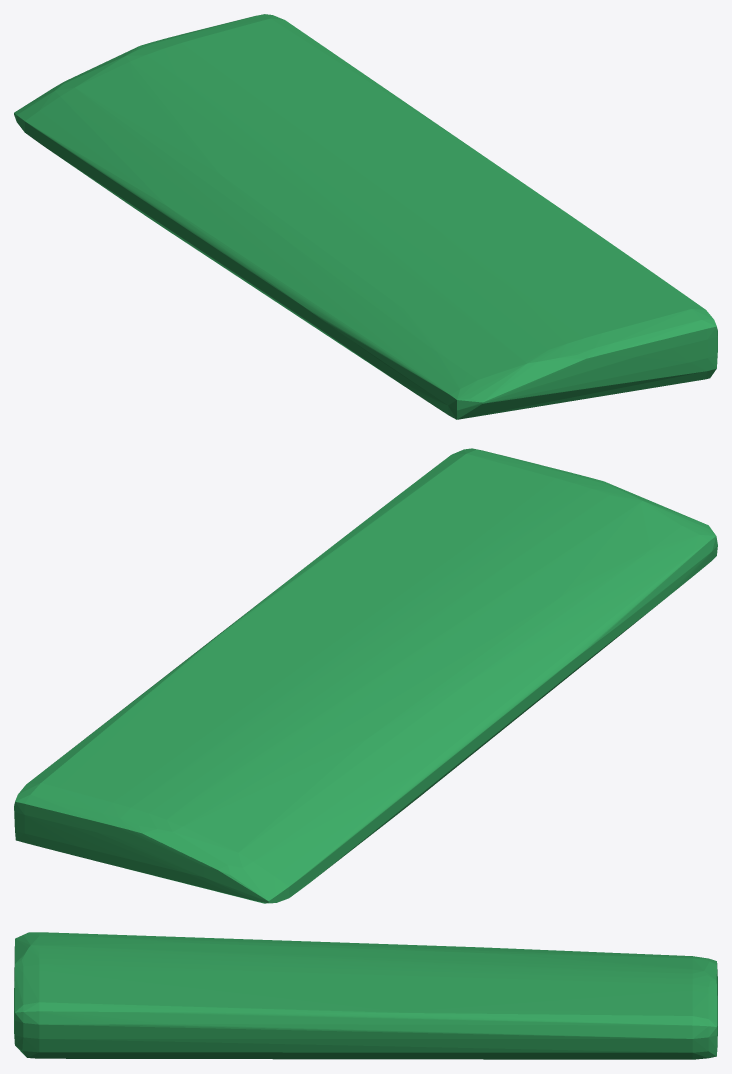
Rendered from right-shoulder-yaw-0_part_10.obj.
The picture shows the model from 3 angles, top to bottom: view 1: azimuth 30°, elevation 25°; view 2: azimuth 150°, elevation 25°; view 3: azimuth 270°, elevation 25°; orthographic projection. The views are drawn at different scales.
Size of the model in its own units: 0.0193 by 0.00526 by 0.0569.
